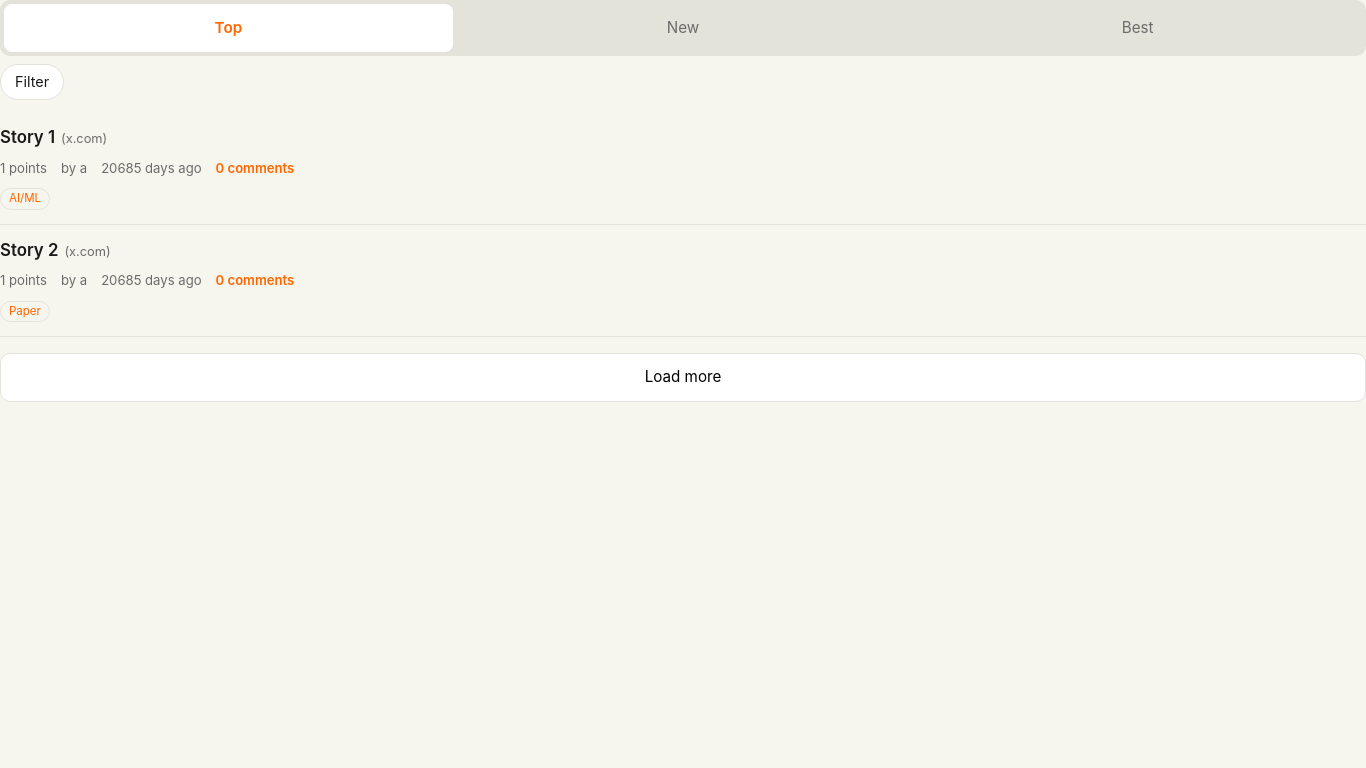
Test case: filters the list to stories with the selected tag
expect the link "Story 1" is shown: met, box [0,127,55,147]
What coordinates should you click on to do the following:
click the button "Filter"
I would click on:
 (32, 82)
Its box is [0,64,64,100].
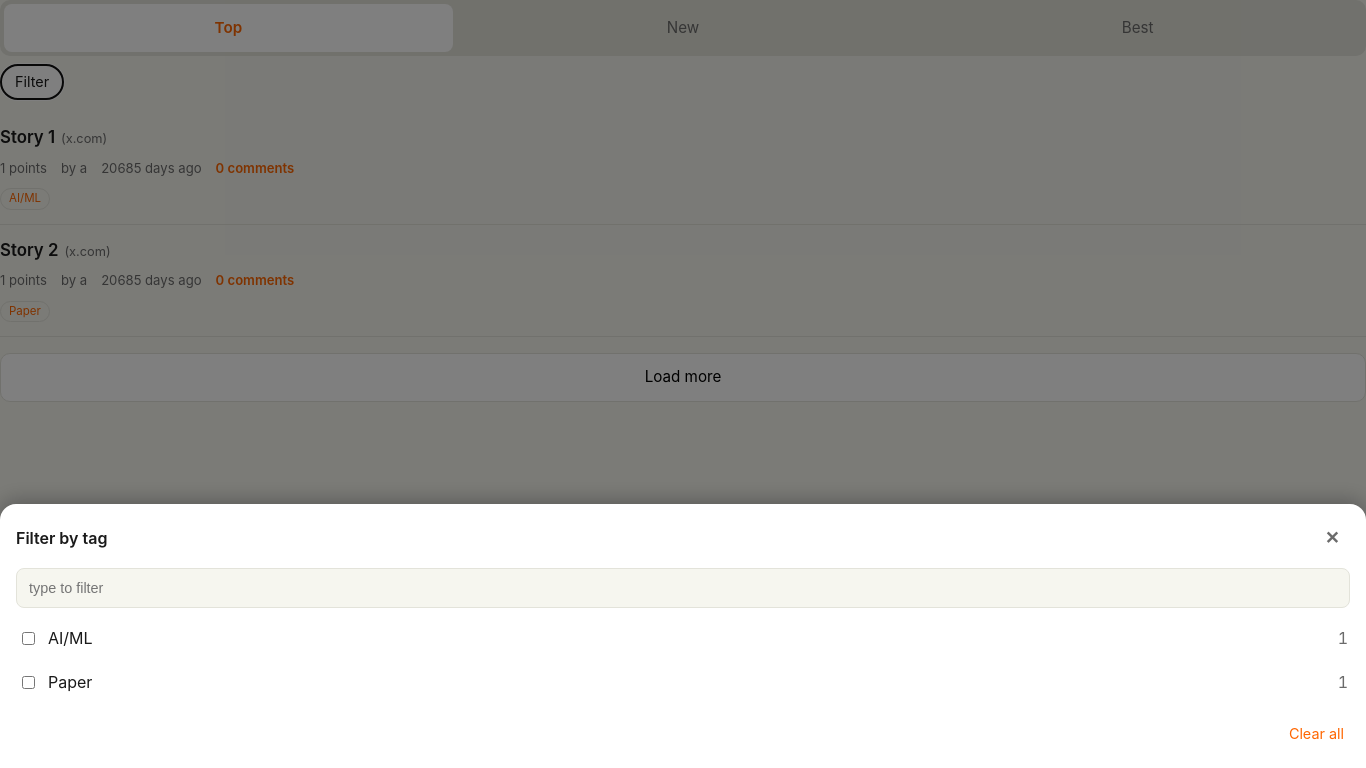
What coordinates should you click on to do the following:
click the checkbox labelled "AI/ML 1"
I would click on:
 (28, 638)
Its box is [22,632,35,644].
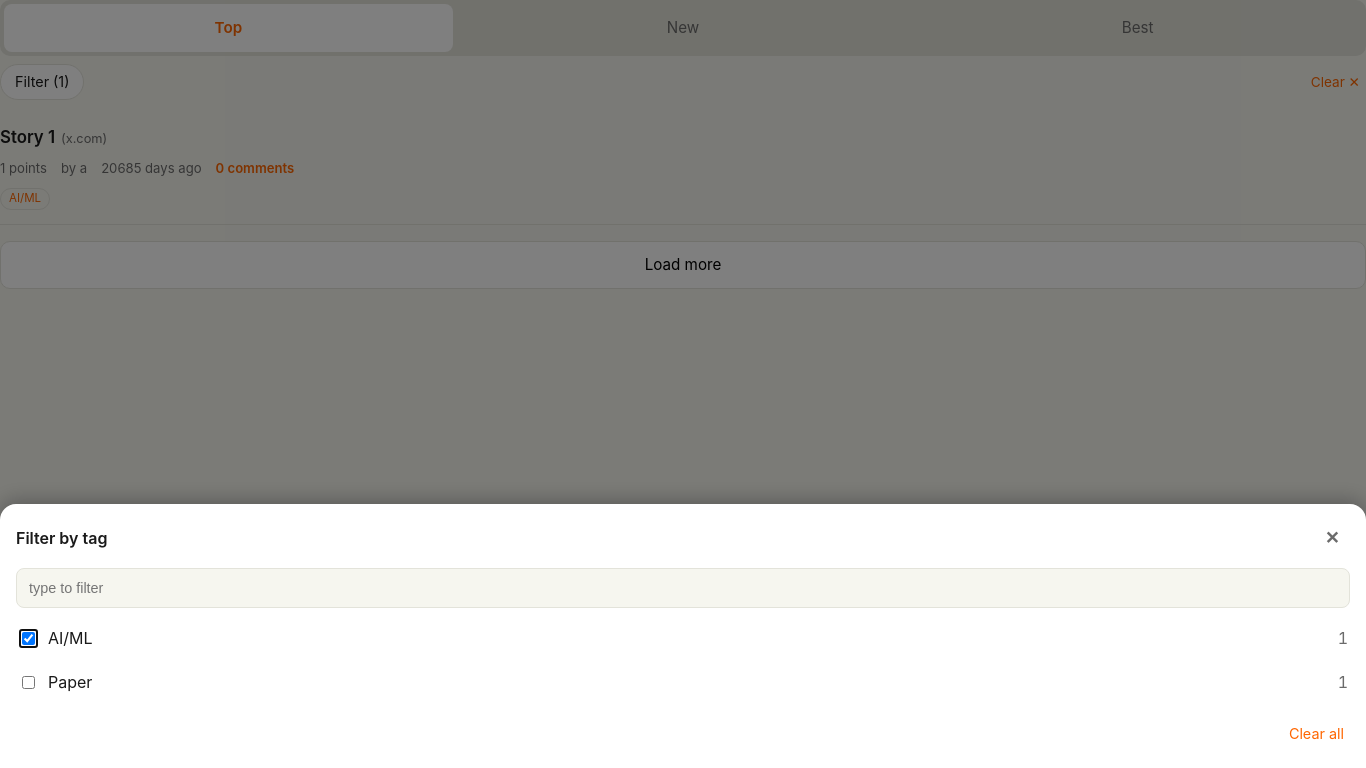
expect the link "Story 1" is shown: met, box [0,127,55,147]
expect the link "Story 2" is gone: met
